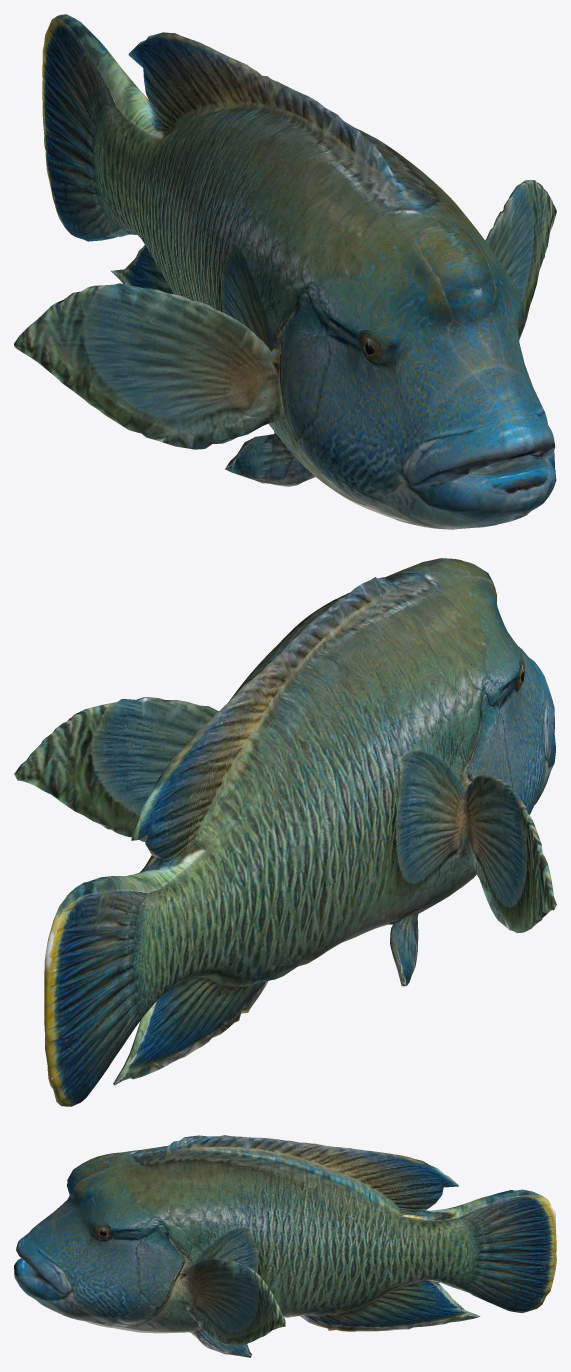
File: fish_wrasse.glb
3 renders of one model, top to bottom at view 1: azimuth 30°, elevation 25°; view 2: azimuth 150°, elevation 25°; view 3: azimuth 270°, elevation 25°, orthographic. The views are drawn at different scales.
Visible parts, largest first — view 1: geometry_0; view 2: geometry_0; view 3: geometry_0.
Part boxes in pixels (bbox=[...]): geometry_0: bbox=[14, 14, 556, 529]; geometry_0: bbox=[14, 558, 556, 1106]; geometry_0: bbox=[14, 1135, 556, 1357].
Bounding box in the file's own units: 1.28 × 0.7896 × 1.96.
Materials: 1 (1 with a texture image).
